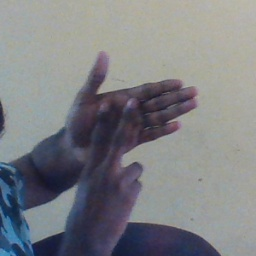N: (58, 46, 202, 200)
